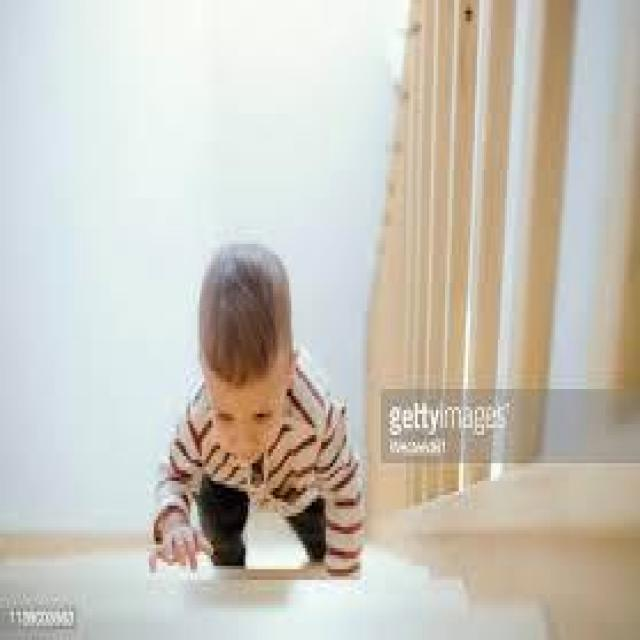child: (138, 237, 374, 601)
